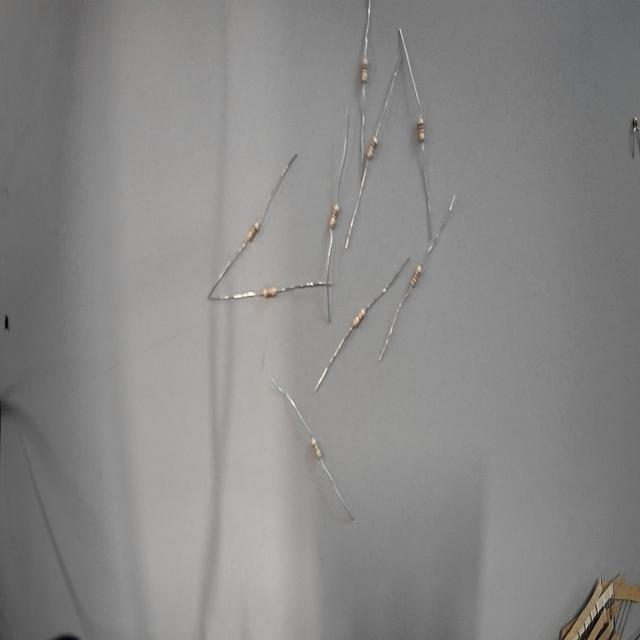resistor: (236, 205, 268, 258), (398, 249, 431, 300), (252, 270, 286, 312), (359, 122, 387, 171), (351, 39, 376, 93), (408, 100, 433, 152), (303, 426, 329, 468), (346, 299, 373, 337), (324, 196, 346, 240)
